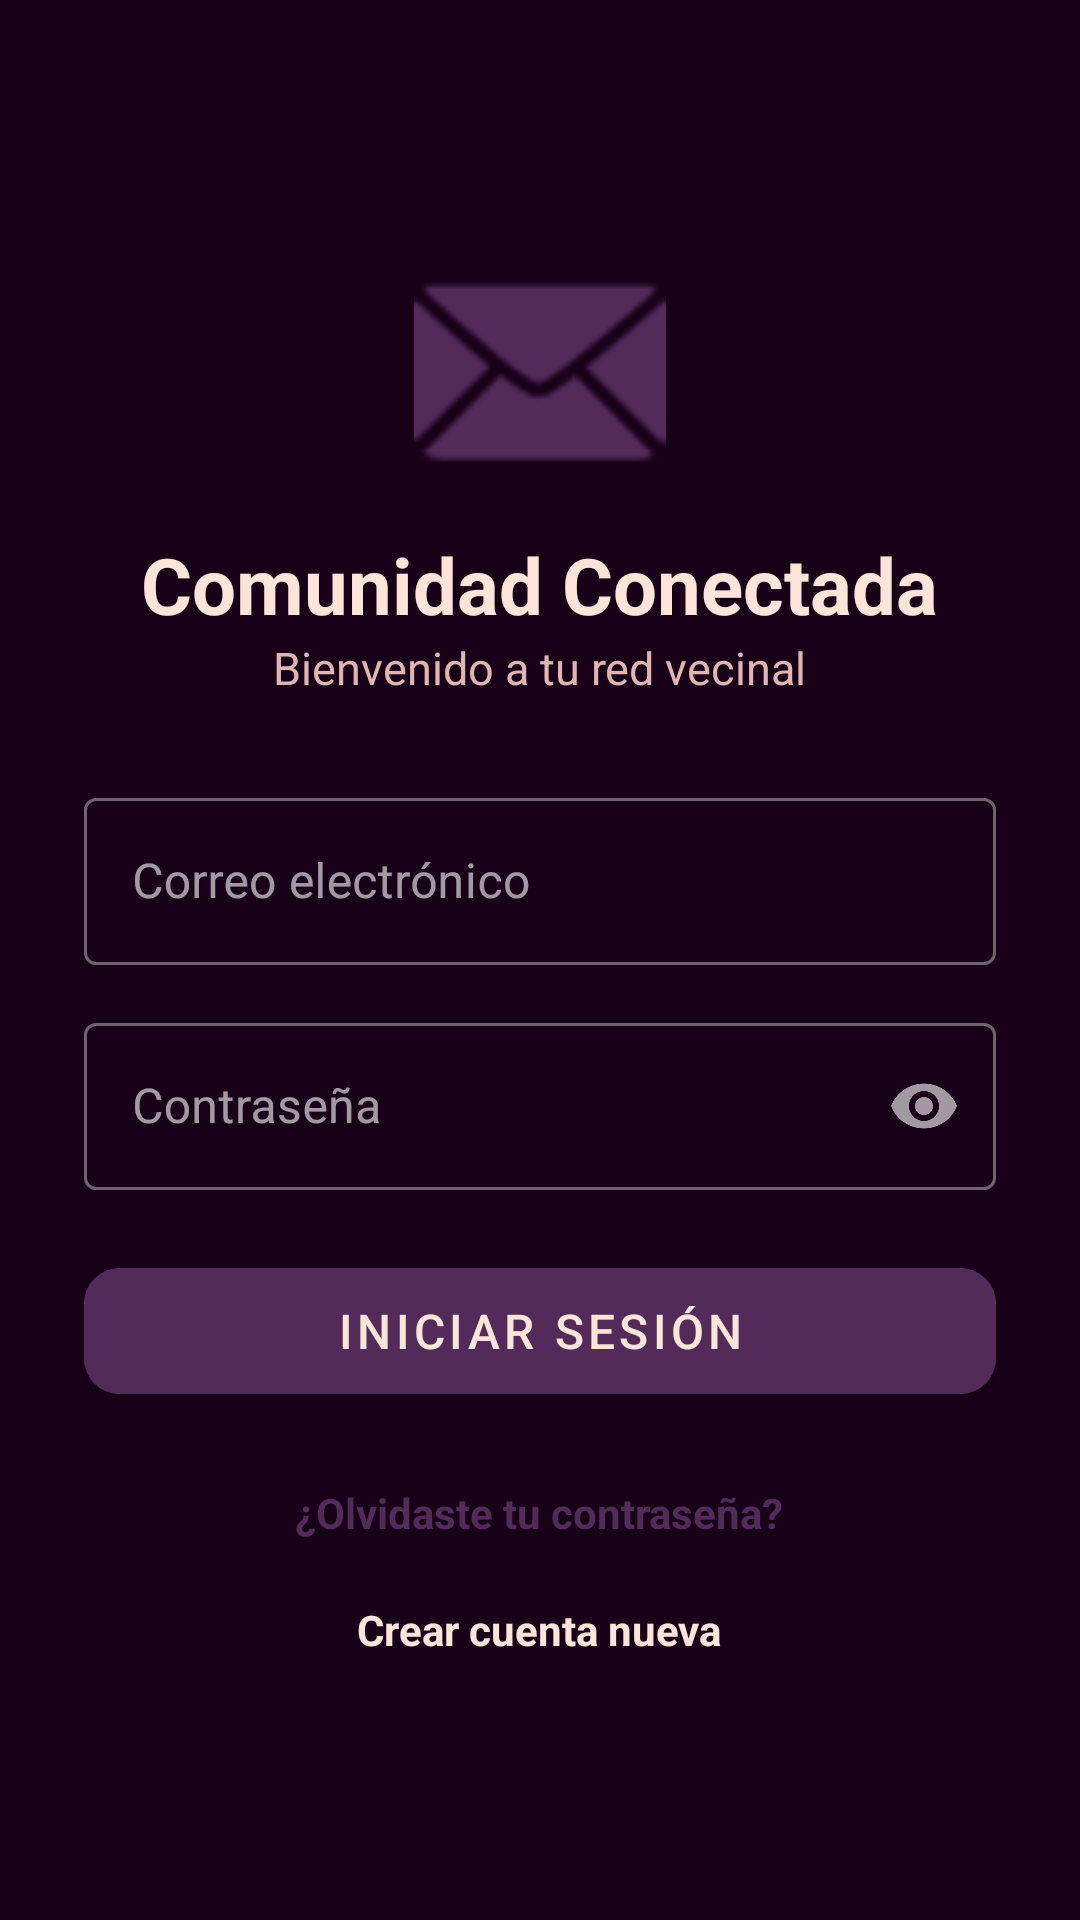

Screen size 1080px×1920px. Icon name, then its box in pixels as [x1,y1,x2,y2]:
email: [414,285,666,460]
